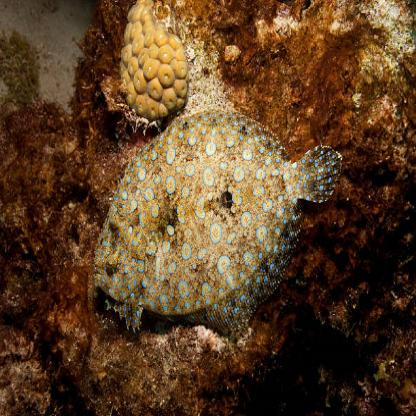flounder: (85, 71, 346, 338)
